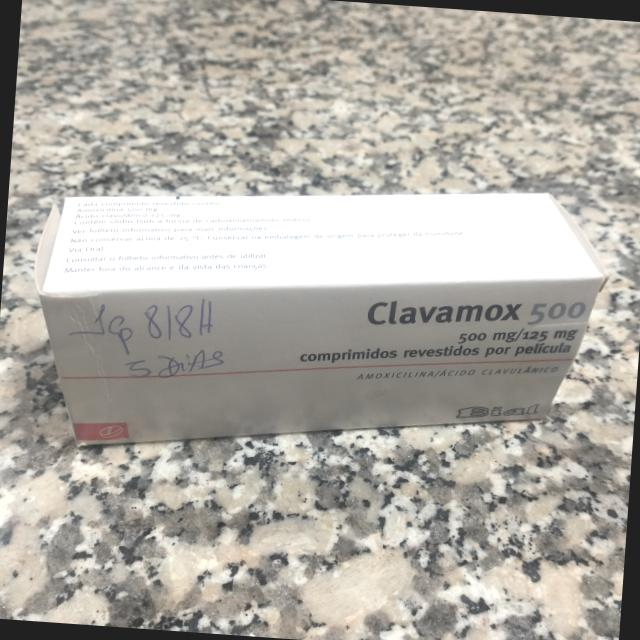box: (39, 194, 610, 448)
